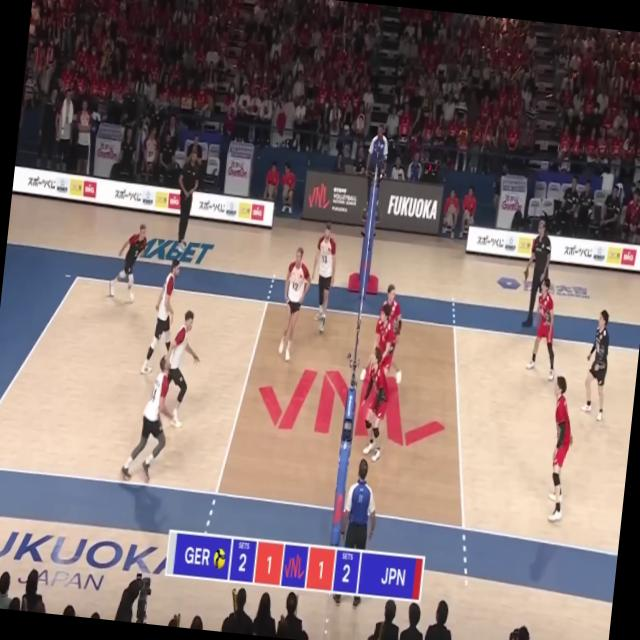referee: (332, 455, 381, 610)
team_one: (120, 354, 173, 484), (152, 306, 204, 430), (140, 254, 182, 380), (274, 245, 314, 364), (308, 222, 340, 335), (106, 219, 146, 306)
team_two: (538, 375, 580, 524), (579, 304, 616, 422), (354, 346, 391, 462), (524, 275, 564, 382), (364, 304, 398, 400), (376, 282, 405, 356)
